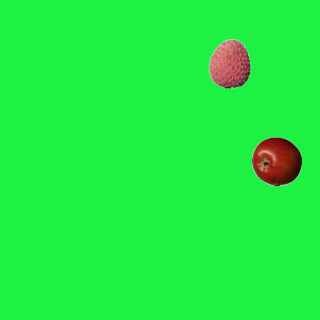Apple Braeburn: (251, 136, 301, 186)
Lychee: (204, 38, 254, 88)
